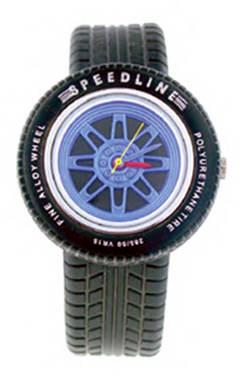watch: (19, 68, 232, 269)
